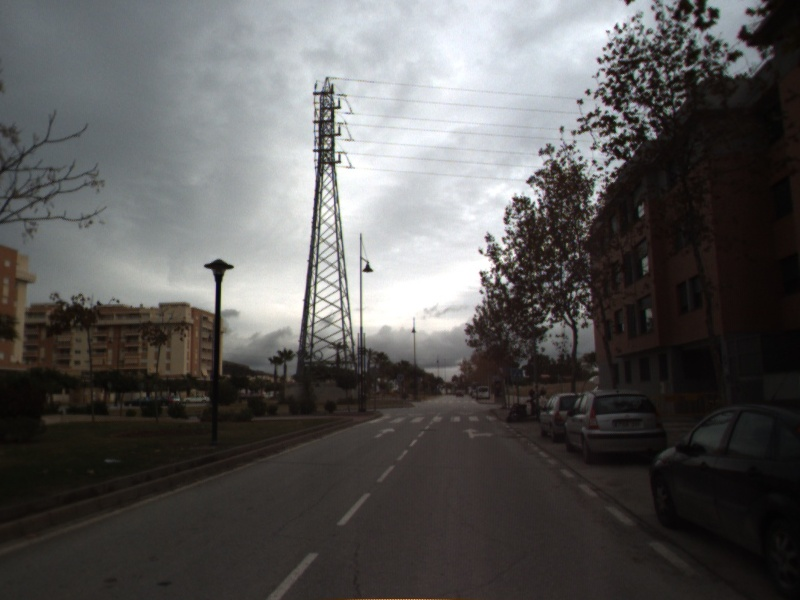STRAIGHT: (372, 425, 397, 440)
STRAIGHT_RIGHT: (460, 426, 497, 441)
